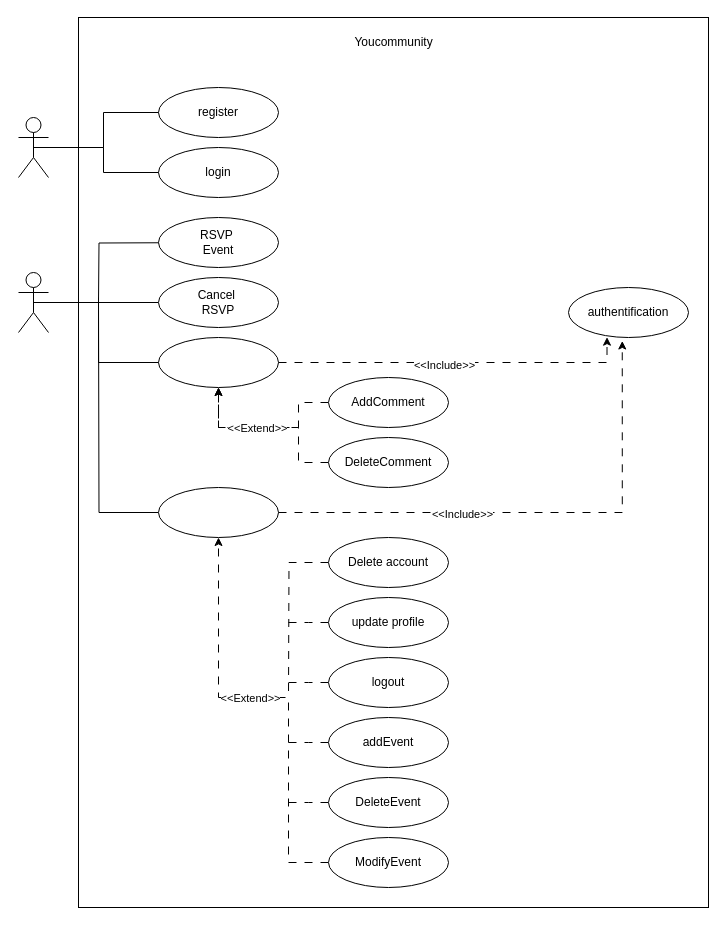
This 726x925 diagram has some shape labels left out. Each missing label, with the box of its shape:
access dashboard: (158, 486, 278, 538)
access event details: (158, 336, 278, 388)
User: (18, 272, 48, 332)
Visitor: (18, 116, 48, 178)
